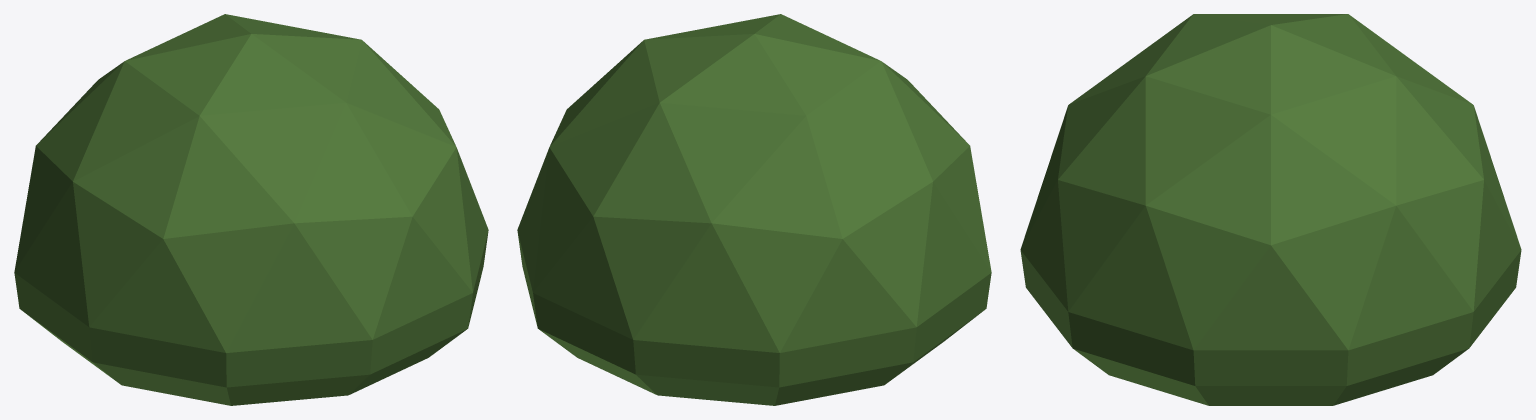
File: Bush.fbx
The picture shows the model from 3 angles, left to right: view 1: azimuth 30°, elevation 25°; view 2: azimuth 150°, elevation 25°; view 3: azimuth 270°, elevation 25°; orthographic projection. The views are drawn at different scales.
Parts seen in each view (by area): view 1: Bush; view 2: Bush; view 3: Bush.
Boxes of the visible parts, x1,y1,x2,y2 form: Bush: [14, 14, 488, 405]; Bush: [517, 14, 991, 405]; Bush: [1020, 14, 1521, 405].
Size of the model in its own units: 571 by 397 by 600.
